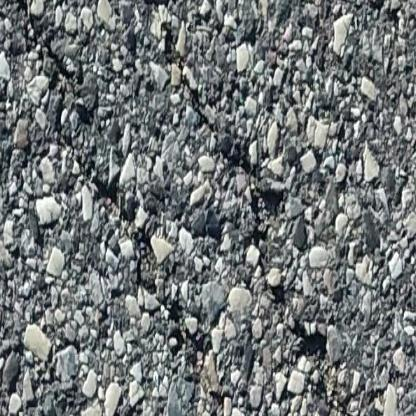Cracks: (0, 0, 329, 406), (129, 0, 307, 227)
